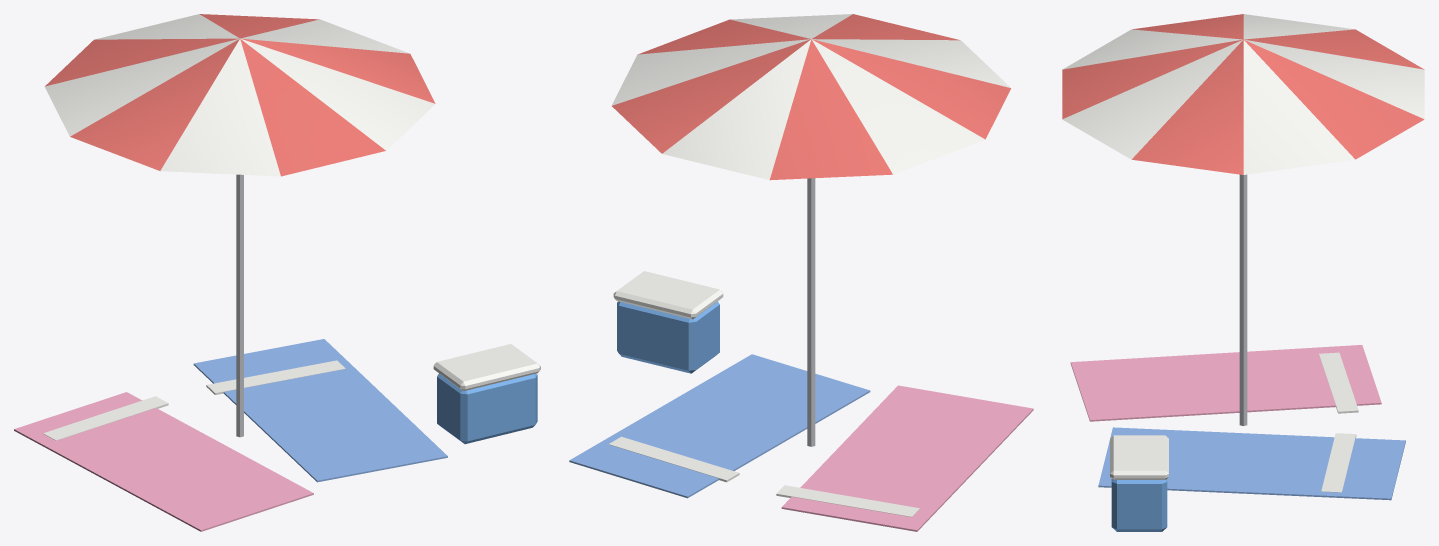
The model's file is umbrella_towel_set.glb.
3 renders of one model, left to right at view 1: azimuth 30°, elevation 25°; view 2: azimuth 150°, elevation 25°; view 3: azimuth 270°, elevation 25°, orthographic. The views are drawn at different scales.
Parts seen in each view (by area): view 1: body; view 2: body; view 3: body.
Part boxes in pixels (x1,y1,x2,y2): body: [14, 14, 540, 531]; body: [569, 14, 1033, 531]; body: [1062, 14, 1424, 531].
Bounding box in the file's own units: 2.61 × 2.45 × 2.09.
